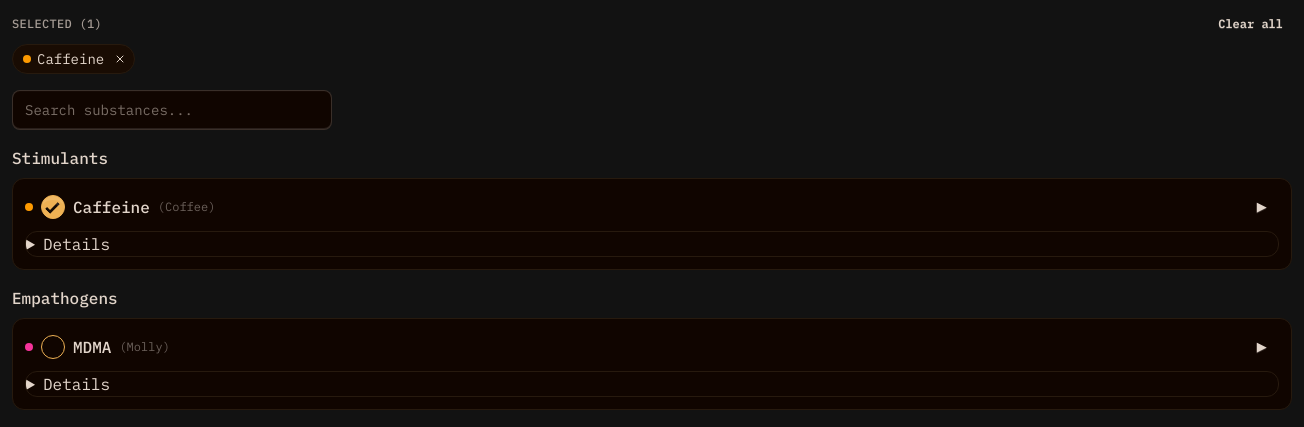
SubstanceSelectionList › filters substances by search query
Step 1. Type "caffeine" into the field with placeholder "Search substances..." → (172, 110), box left=12, top=90, right=332, bottom=130
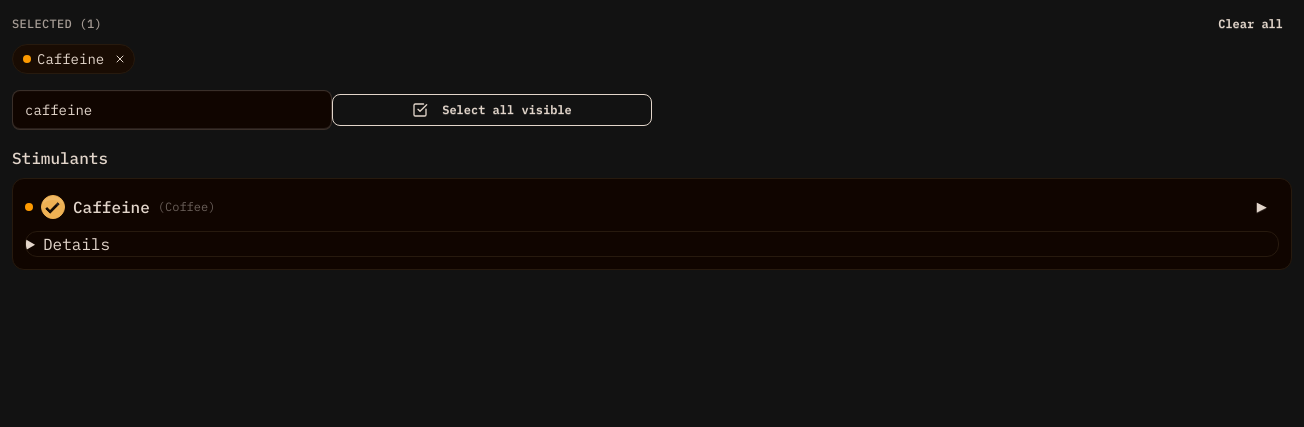
expect the text "Caffeine" is shown: met, box left=37, top=49, right=104, bottom=69
expect the text "MDMA" is gone: met
